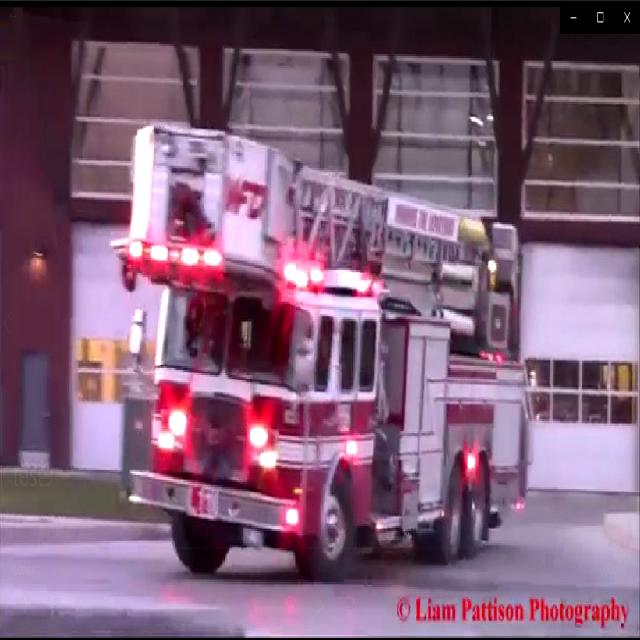emergency: (103, 108, 535, 591)
